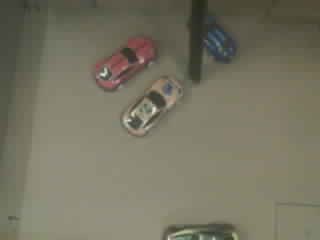Car: (122, 76, 181, 135), (97, 38, 153, 89), (204, 24, 235, 61), (169, 224, 238, 239)
